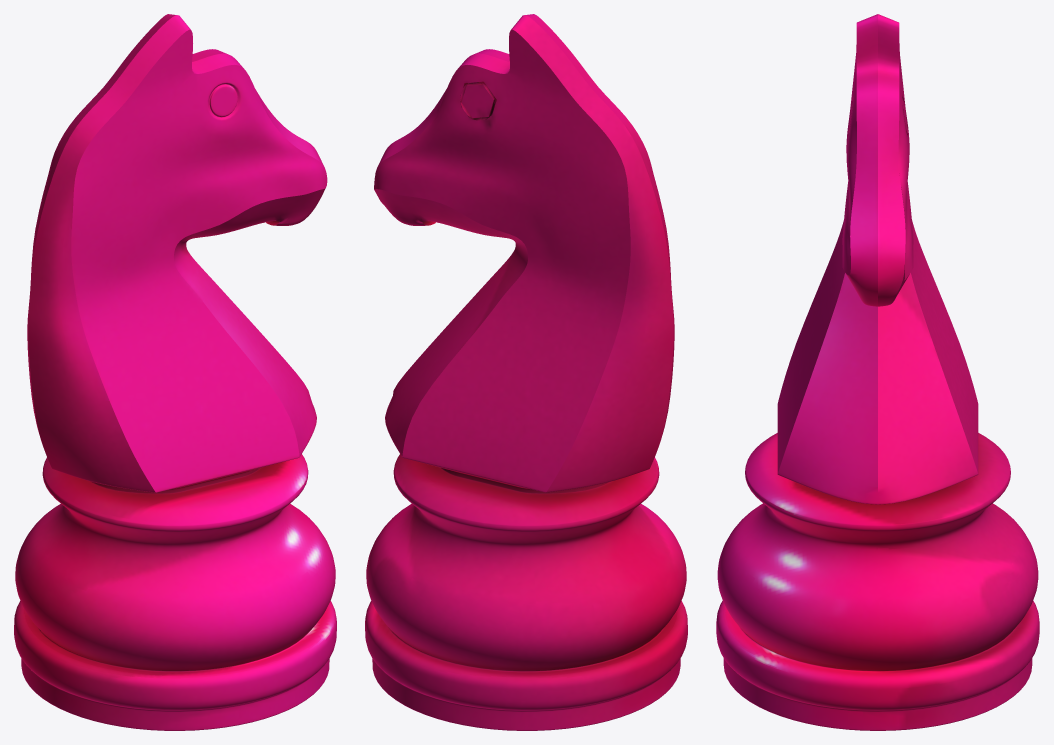
File: knight.gltf
3 views of the same model, side by side, from view 1: azimuth 30°, elevation 25°; view 2: azimuth 150°, elevation 25°; view 3: azimuth 270°, elevation 25° (orthographic).
Parts seen in each view (by area): view 1: Object001.005; view 2: Object001.005; view 3: Object001.005.
Boxes of the visible parts, left/top/right/bottom form: Object001.005: left=14, top=14, right=336, bottom=730; Object001.005: left=365, top=14, right=687, bottom=730; Object001.005: left=716, top=14, right=1039, bottom=730.
Size of the model in its own units: 3.95 by 8.37 by 3.77.
Materials: 1 (1 with a texture image).
